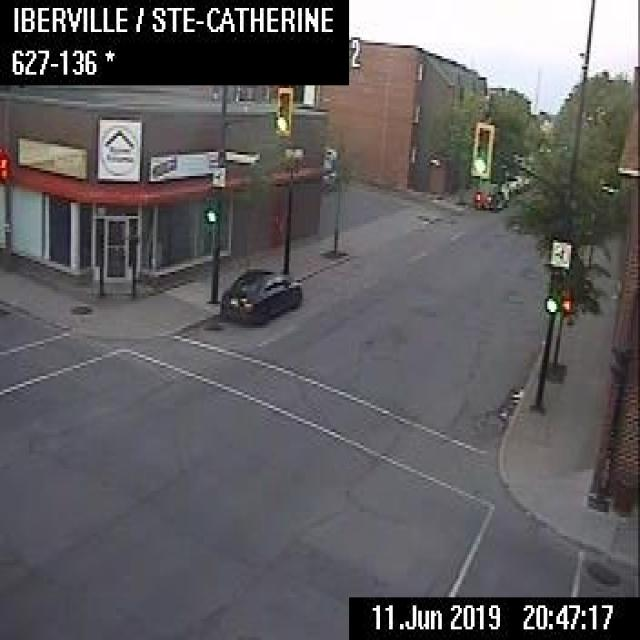vehicle: (218, 266, 301, 322), (473, 180, 506, 209), (504, 172, 522, 192)
